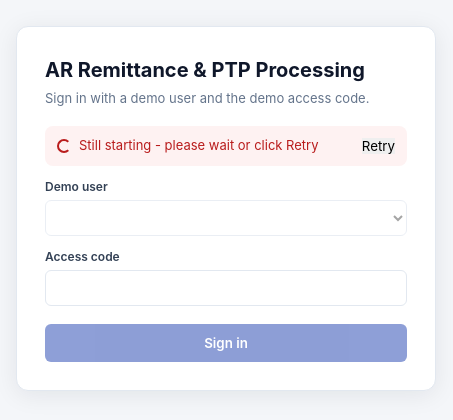
Test: login screen › shows the long-wait message after 1 minute, with a Retry button that starts the wait again
Expected: the text "Starting the server... this can take up to 1 minute after a quiet period" is shown, [45,126,407,166]
Expected: the text "Still starting - please wait or click Retry" is shown, [79,137,318,153]
Click the button "Retry" at (378, 146), box [362,138,395,154]
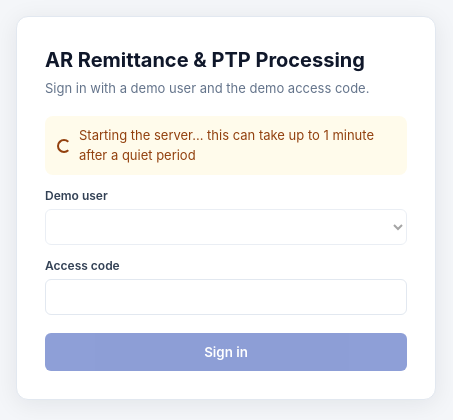
Expected: the text "Starting the server... this can take up to 1 minute after a quiet period" is shown, [45,116,407,175]
